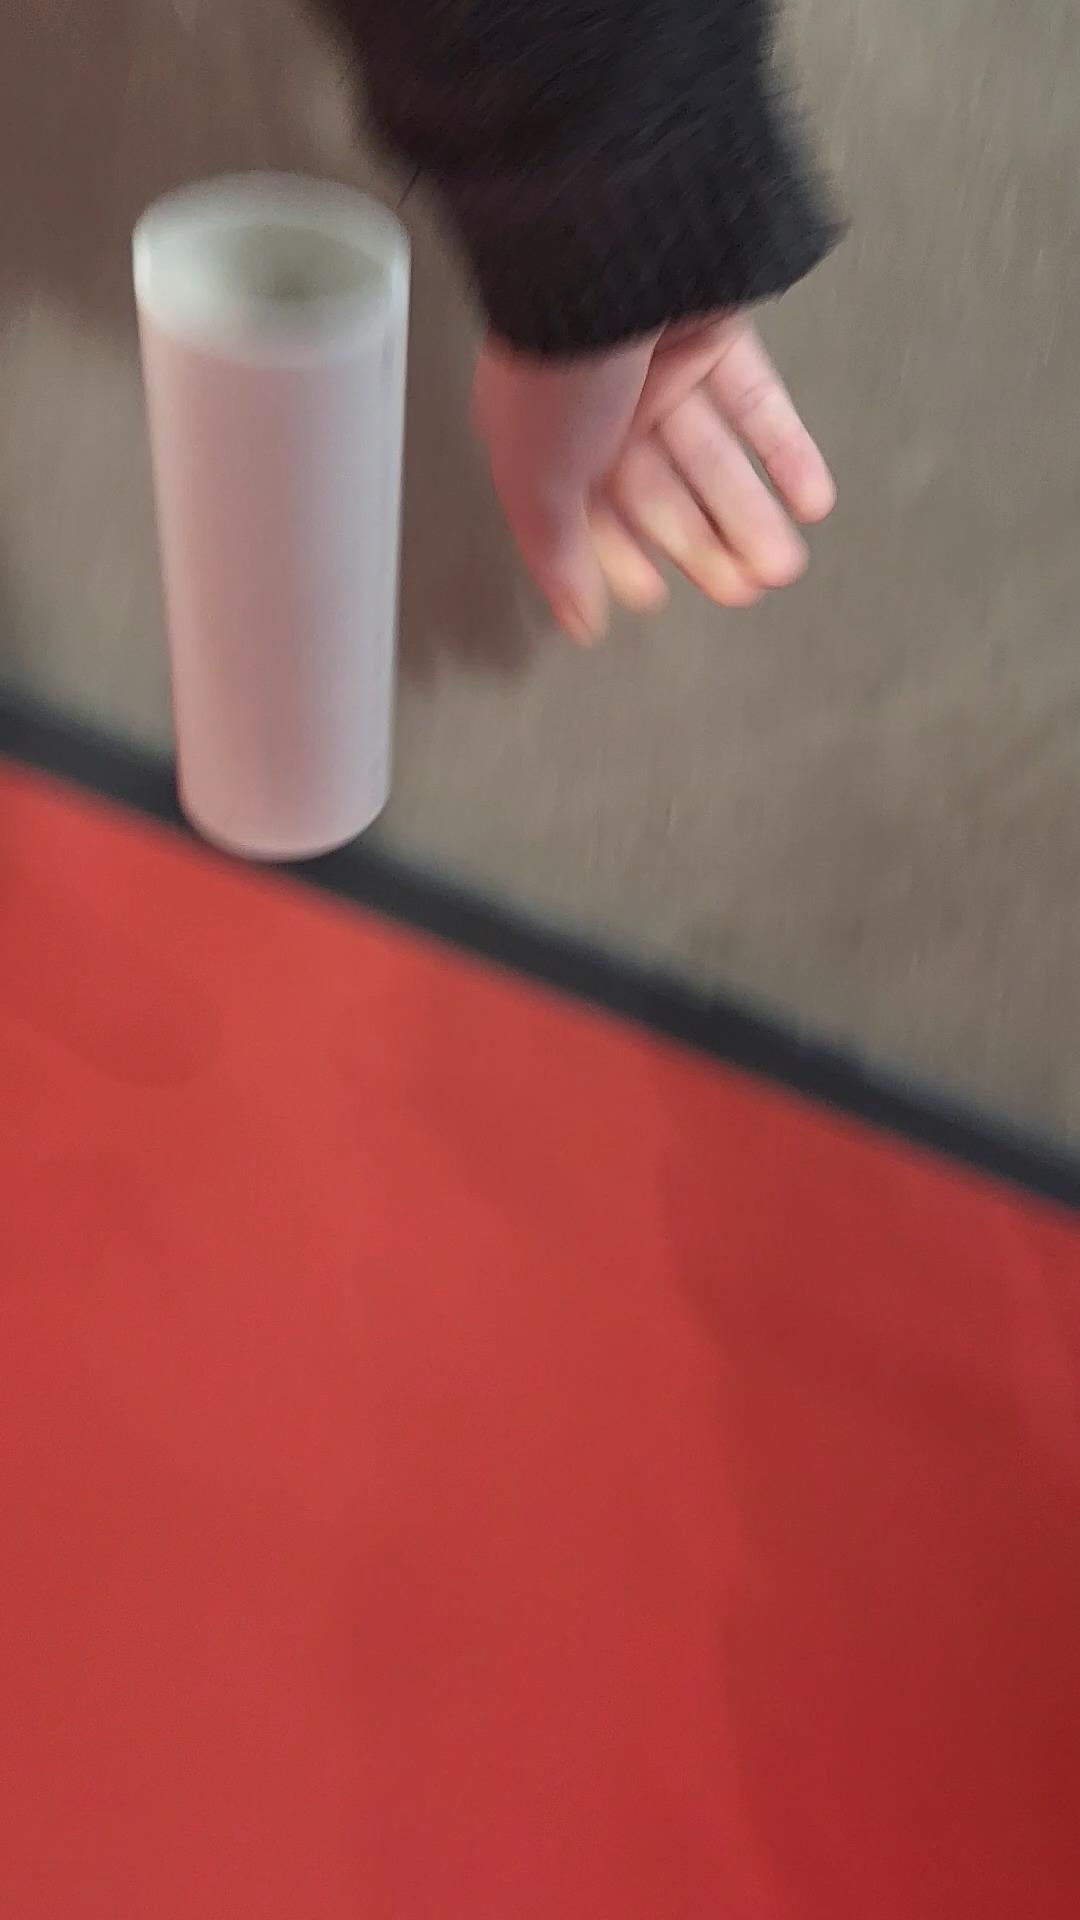coral: (113, 167, 434, 870)
